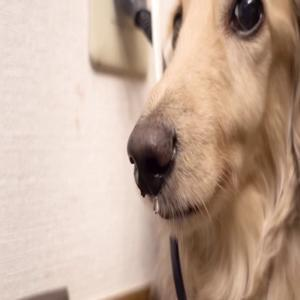nasal_discharge: (132, 171, 167, 218)
